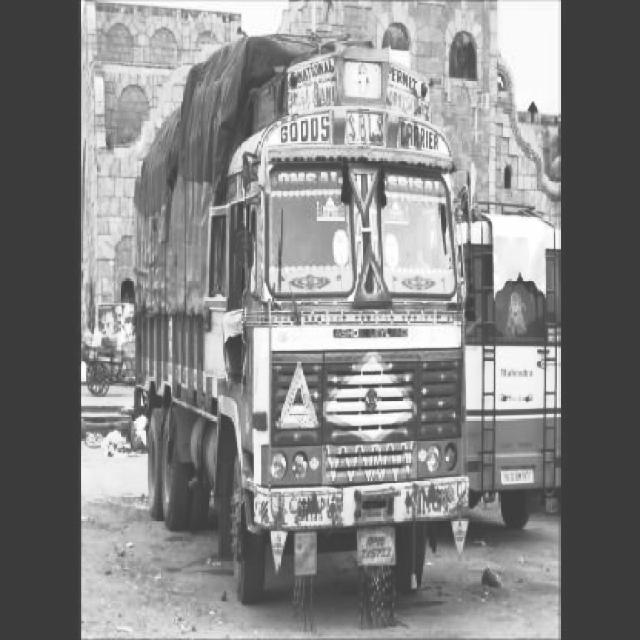HCV: (132, 37, 465, 614)
